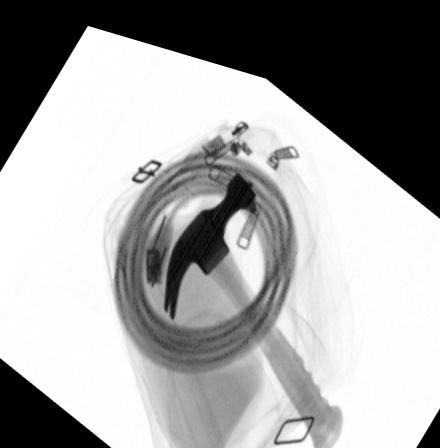Hammer: (159, 155, 342, 441)
